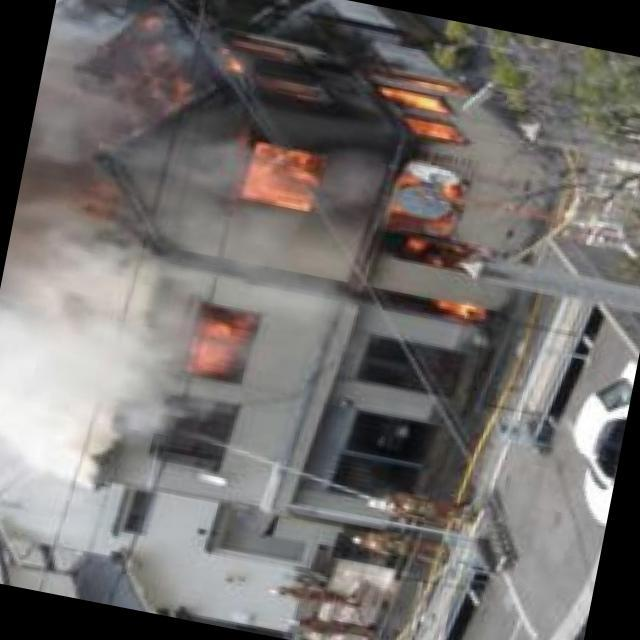Fire: (100, 9, 536, 335), (175, 308, 257, 401)
